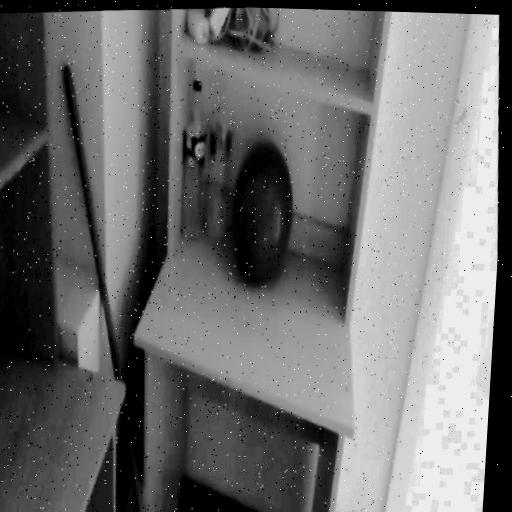balloon: (217, 128, 308, 296)
